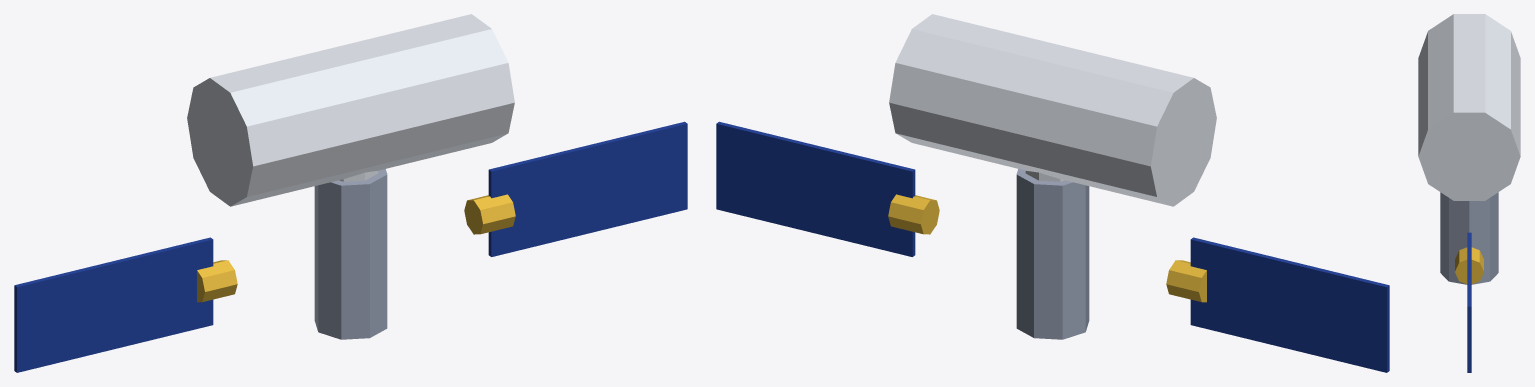
File: lowpoly-space_station_core.glb
The picture shows the model from 3 angles, left to right: view 1: azimuth 30°, elevation 25°; view 2: azimuth 150°, elevation 25°; view 3: azimuth 270°, elevation 25°; orthographic projection. The views are drawn at different scales.
Visible parts, largest first — view 1: space_station_core; view 2: space_station_core; view 3: space_station_core.
Part boxes in pixels (bbox=[...]): space_station_core: bbox=[14, 14, 687, 372]; space_station_core: bbox=[716, 14, 1389, 372]; space_station_core: bbox=[1418, 14, 1520, 372].
Size of the model in its own units: 8.2 by 3.17 by 1.4.
